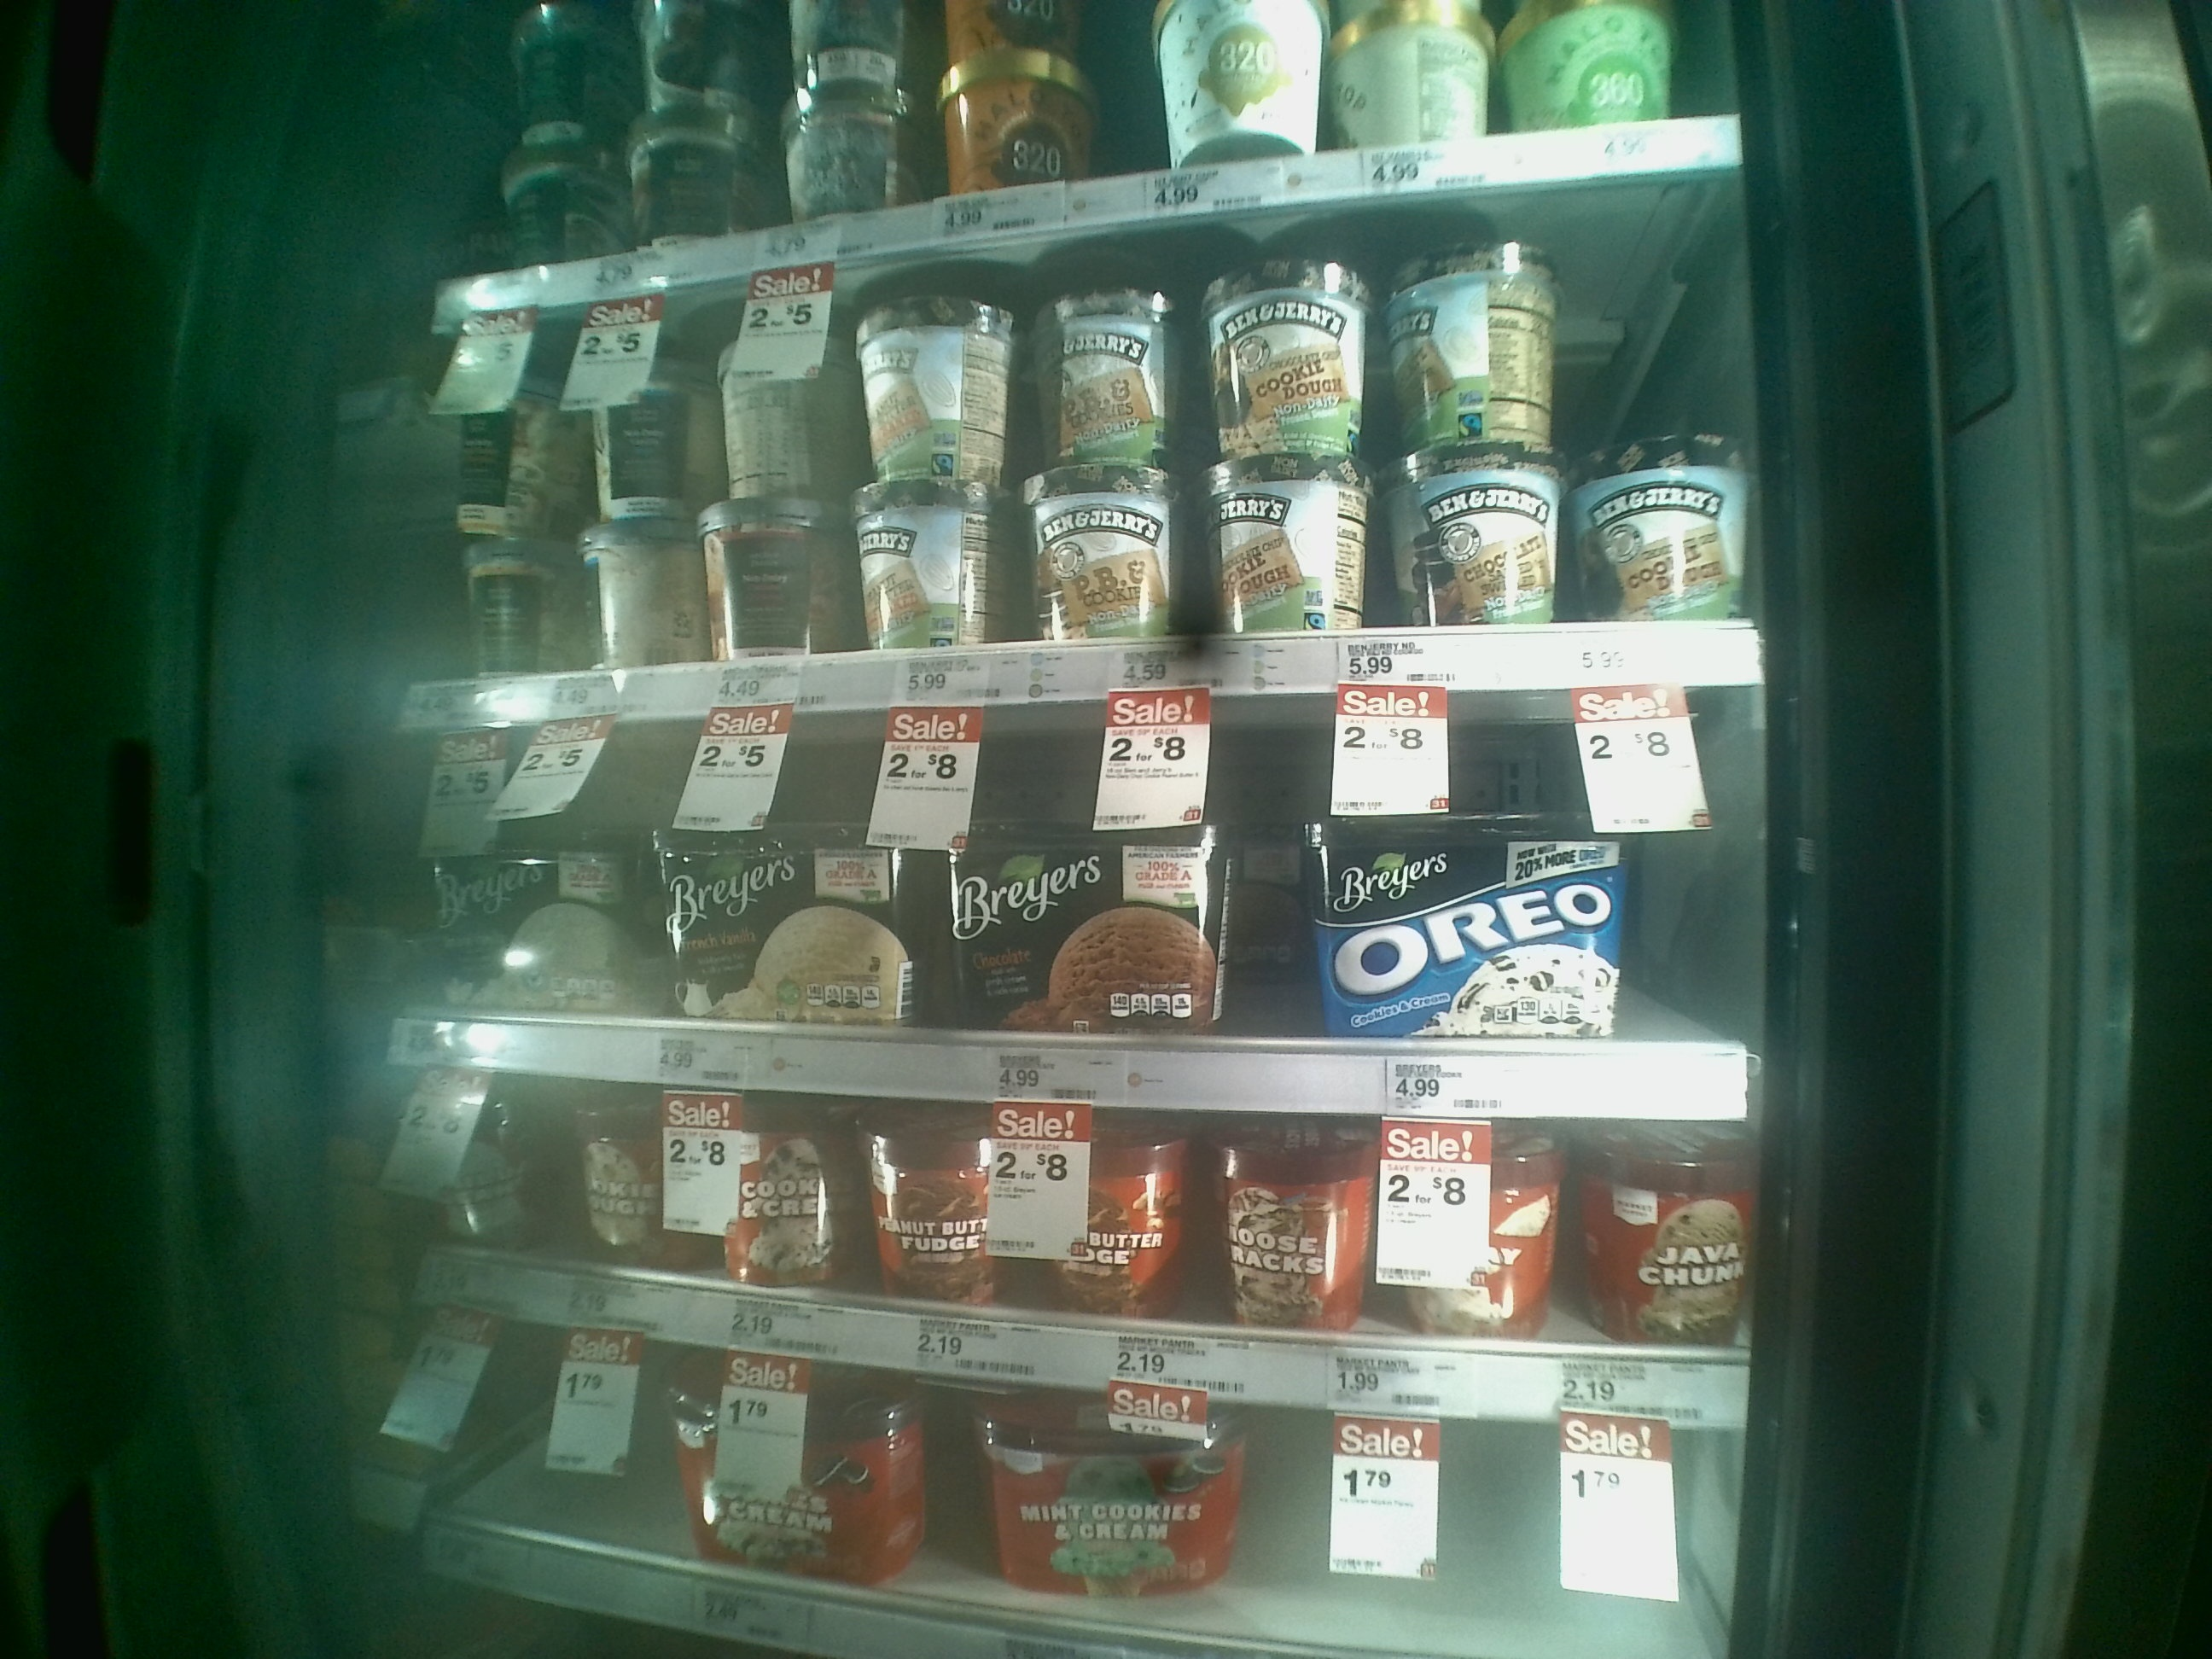ice-cream-shelf: (437, 247, 1745, 704), (397, 732, 1752, 1114)
